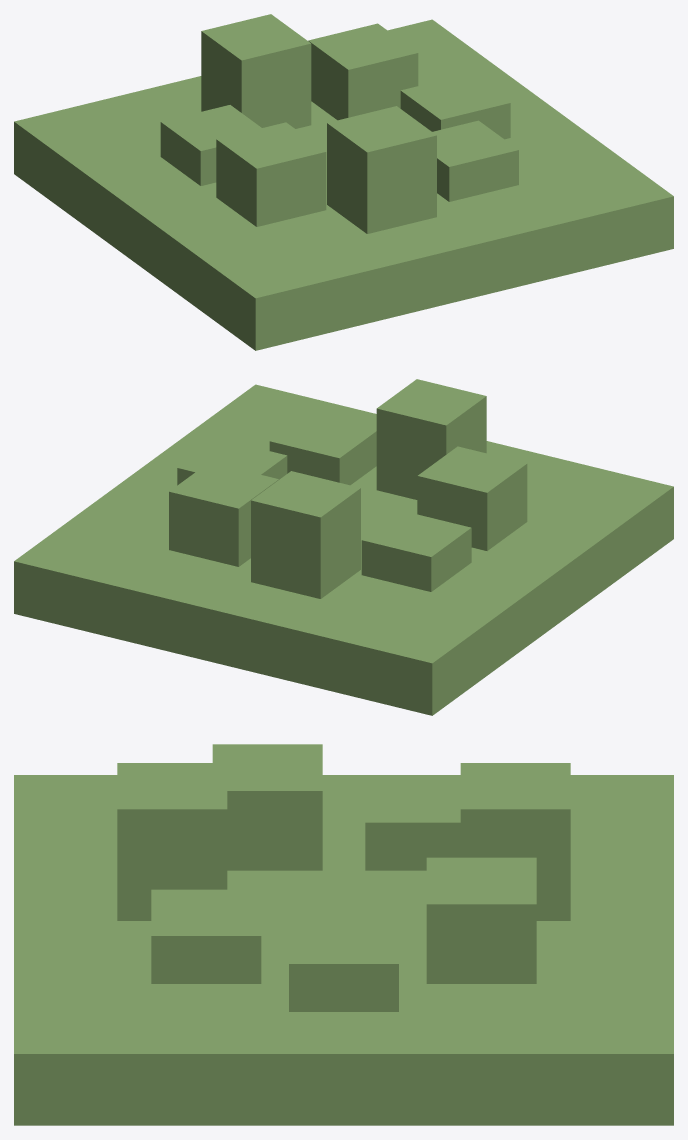
Rendered from woodland.glb.
3 views of the same model, one above another, from view 1: azimuth 30°, elevation 25°; view 2: azimuth 150°, elevation 25°; view 3: azimuth 270°, elevation 25° (orthographic). The views are drawn at different scales.
Visible parts, largest first — view 1: woodland base, woodland relief.005, woodland relief.002, woodland relief.004, woodland relief.001, woodland relief.006, woodland relief, woodland relief.003; view 2: woodland base, woodland relief.002, woodland relief.005, woodland relief.004, woodland relief.001, woodland relief.003, woodland relief.006, woodland relief; view 3: woodland base, woodland relief.005, woodland relief.001, woodland relief.002, woodland relief.004, woodland relief.006, woodland relief, woodland relief.003.
Boxes of the visible parts, x1=… form: woodland base: x1=14, y1=19, x2=673, y2=350; woodland relief.005: x1=327, y1=106, x2=436, y2=233; woodland relief.002: x1=201, y1=14, x2=311, y2=128; woodland relief.004: x1=216, y1=122, x2=326, y2=226; woodland relief.001: x1=308, y1=23, x2=418, y2=120; woodland relief.006: x1=432, y1=120, x2=518, y2=201; woodland relief: x1=400, y1=73, x2=510, y2=139; woodland relief.003: x1=160, y1=105, x2=261, y2=185; woodland base: x1=14, y1=384, x2=673, y2=715; woodland relief.002: x1=251, y1=471, x2=360, y2=598; woodland relief.005: x1=376, y1=379, x2=486, y2=499; woodland relief.004: x1=417, y1=446, x2=527, y2=550; woodland relief.001: x1=169, y1=462, x2=278, y2=566; woodland relief.003: x1=361, y1=510, x2=471, y2=591; woodland relief.006: x1=269, y1=412, x2=376, y2=485; woodland relief: x1=177, y1=438, x2=287, y2=485; woodland base: x1=14, y1=775, x2=673, y2=1125; woodland relief.005: x1=117, y1=763, x2=227, y2=920; woodland relief.001: x1=426, y1=857, x2=536, y2=983; woodland relief.002: x1=460, y1=763, x2=570, y2=920; woodland relief.004: x1=212, y1=744, x2=322, y2=870; woodland relief.006: x1=151, y1=889, x2=261, y2=983; woodland relief: x1=289, y1=917, x2=398, y2=1011; woodland relief.003: x1=365, y1=776, x2=460, y2=870.
Size of the model in its own units: 3 by 0.92 by 3.
